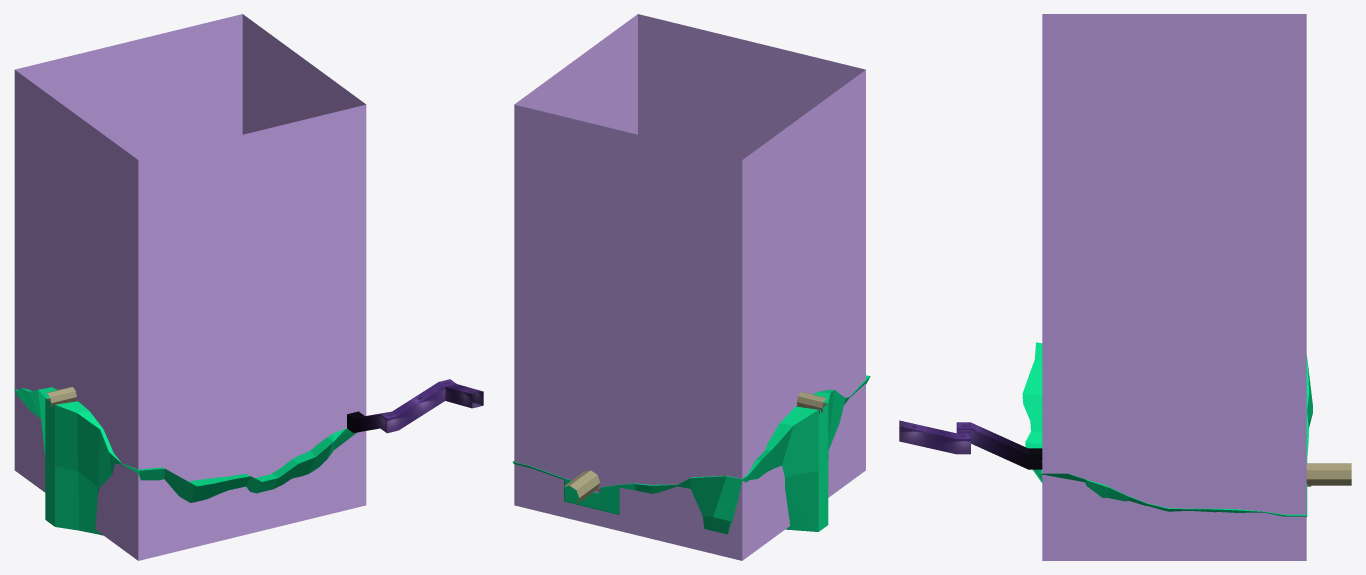
The model's file is Tecno2tp3.glb.
The picture shows the model from 3 angles, left to right: view 1: azimuth 30°, elevation 25°; view 2: azimuth 150°, elevation 25°; view 3: azimuth 270°, elevation 25°; orthographic projection. The views are drawn at different scales.
Visible parts, largest first — view 1: Paredes, Valle, Pasillo; view 2: Paredes, Valle, LongPipe.003; view 3: Paredes, Valle, Pasillo, LongPipe.003.
Boxes of the visible parts, x1=… form: Paredes: x1=14, y1=14, x2=366, y2=560; Valle: x1=14, y1=387, x2=356, y2=535; Pasillo: x1=347, y1=379, x2=483, y2=433; Paredes: x1=514, y1=14, x2=865, y2=560; Valle: x1=513, y1=375, x2=870, y2=534; LongPipe.003: x1=563, y1=470, x2=600, y2=503; Paredes: x1=1042, y1=14, x2=1306, y2=560; Valle: x1=1022, y1=342, x2=1312, y2=516; Pasillo: x1=899, y1=420, x2=1042, y2=469; LongPipe.003: x1=1306, y1=463, x2=1351, y2=485.
Bounding box in the file's own units: 262 × 334 × 316.
Materials: 52 (7 with a texture image).
